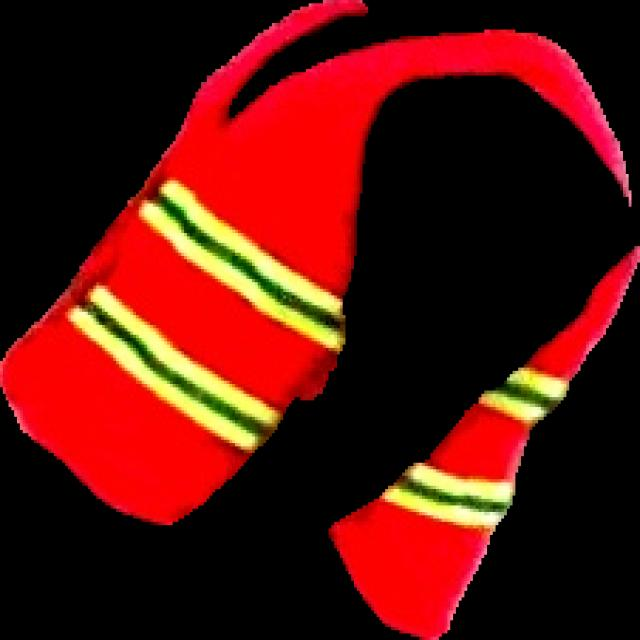Colete: (0, 0, 631, 525)
